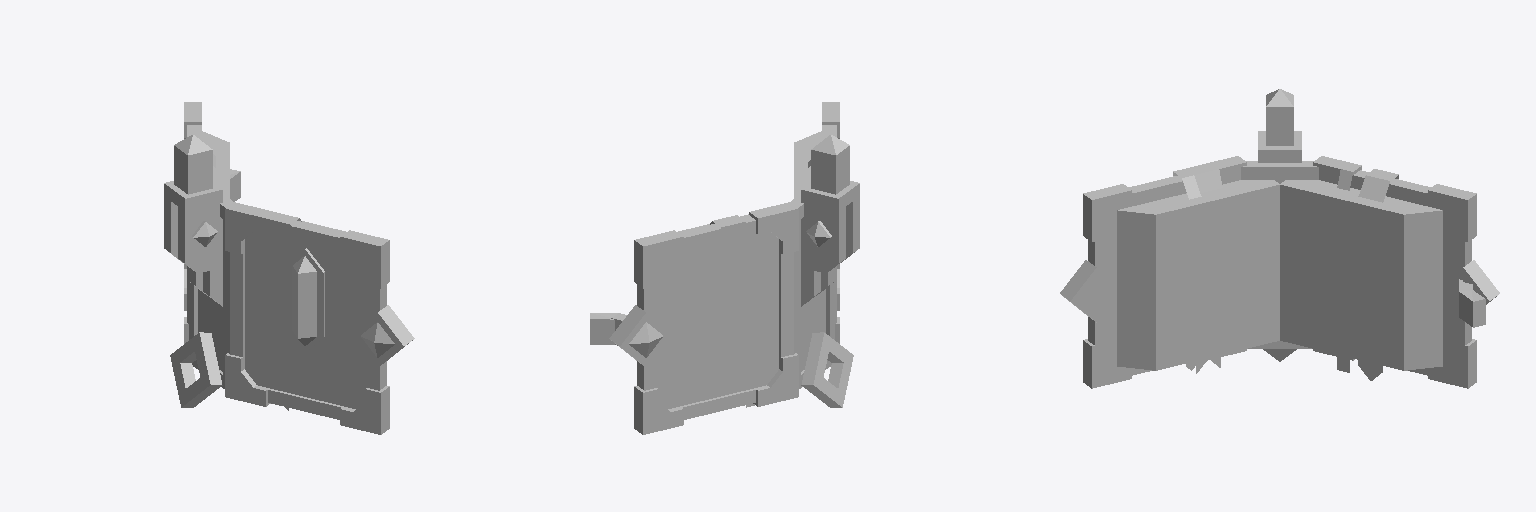
File: grimoire_council_open.obj
3 views of the same model, side by side, from view 1: azimuth 30°, elevation 25°; view 2: azimuth 150°, elevation 25°; view 3: azimuth 270°, elevation 25° (orthographic).
Parts seen in each view (by area): view 1: COVER_FRONT_VAR4_OPEN_Cube.141, COVERDECO_FRONT_VAR4_OPEN_Cube.146, SPINEDECO_VAR4_CRYSTAL_OPEN_Cube.150, SPINE_VAR4_OPEN_Cube.142, SPINEDECO_VAR4_RING_OPEN_Cube.147, PAGES_VAR4_BACK_OPEN_Cube.177, COVERDECO_BACK_VAR4_OPEN_Cube.145; view 2: COVER_BACK_VAR4_OPEN_Cube.149, COVERDECO_BACK_VAR4_OPEN_Cube.145, SPINEDECO_VAR4_CRYSTAL_OPEN_Cube.150, SPINE_VAR4_OPEN_Cube.142, SPINEDECO_VAR4_RING_OPEN_Cube.147, PAGES_VAR4_FRONT_OPEN_Cube.176, STRAP_VAR4_OPEN_Cube.148, COVERDECO_FRONT_VAR4_OPEN_Cube.146; view 3: PAGES_VAR4_FRONT_OPEN_Cube.176, PAGES_VAR4_BACK_OPEN_Cube.177, COVERDECO_FRONT_VAR4_OPEN_Cube.146, COVERDECO_BACK_VAR4_OPEN_Cube.145, COVER_FRONT_VAR4_OPEN_Cube.141, COVER_BACK_VAR4_OPEN_Cube.149, SPINEDECO_VAR4_CRYSTAL_OPEN_Cube.150, SPINE_VAR4_OPEN_Cube.142, STRAP_VAR4_OPEN_Cube.148.
Boxes of the visible parts, x1=… form: COVER_FRONT_VAR4_OPEN_Cube.141: x1=230, y1=220, x2=386, y2=419; COVERDECO_FRONT_VAR4_OPEN_Cube.146: x1=225, y1=202, x2=414, y2=434; SPINEDECO_VAR4_CRYSTAL_OPEN_Cube.150: x1=164, y1=135, x2=222, y2=306; SPINE_VAR4_OPEN_Cube.142: x1=187, y1=194, x2=233, y2=388; SPINEDECO_VAR4_RING_OPEN_Cube.147: x1=170, y1=332, x2=222, y2=407; PAGES_VAR4_BACK_OPEN_Cube.177: x1=202, y1=131, x2=229, y2=198; COVERDECO_BACK_VAR4_OPEN_Cube.145: x1=184, y1=102, x2=215, y2=343; COVER_BACK_VAR4_OPEN_Cube.149: x1=637, y1=215, x2=793, y2=419; COVERDECO_BACK_VAR4_OPEN_Cube.145: x1=609, y1=202, x2=798, y2=434; SPINEDECO_VAR4_CRYSTAL_OPEN_Cube.150: x1=801, y1=135, x2=859, y2=306; SPINE_VAR4_OPEN_Cube.142: x1=790, y1=194, x2=836, y2=388; SPINEDECO_VAR4_RING_OPEN_Cube.147: x1=801, y1=332, x2=853, y2=407; PAGES_VAR4_FRONT_OPEN_Cube.176: x1=794, y1=131, x2=821, y2=198; STRAP_VAR4_OPEN_Cube.148: x1=590, y1=313, x2=626, y2=345; COVERDECO_FRONT_VAR4_OPEN_Cube.146: x1=808, y1=102, x2=839, y2=343; PAGES_VAR4_FRONT_OPEN_Cube.176: x1=1117, y1=180, x2=1279, y2=370; PAGES_VAR4_BACK_OPEN_Cube.177: x1=1280, y1=180, x2=1442, y2=370; COVERDECO_FRONT_VAR4_OPEN_Cube.146: x1=1060, y1=156, x2=1246, y2=388; COVERDECO_BACK_VAR4_OPEN_Cube.145: x1=1313, y1=156, x2=1499, y2=388; COVER_FRONT_VAR4_OPEN_Cube.141: x1=1088, y1=176, x2=1186, y2=375; COVER_BACK_VAR4_OPEN_Cube.149: x1=1353, y1=170, x2=1471, y2=375; SPINEDECO_VAR4_CRYSTAL_OPEN_Cube.150: x1=1258, y1=89, x2=1301, y2=162; SPINE_VAR4_OPEN_Cube.142: x1=1241, y1=161, x2=1318, y2=348; STRAP_VAR4_OPEN_Cube.148: x1=1459, y1=279, x2=1485, y2=327.
Bounding box in the file's own units: 0.8186 × 1.32 × 1.92.